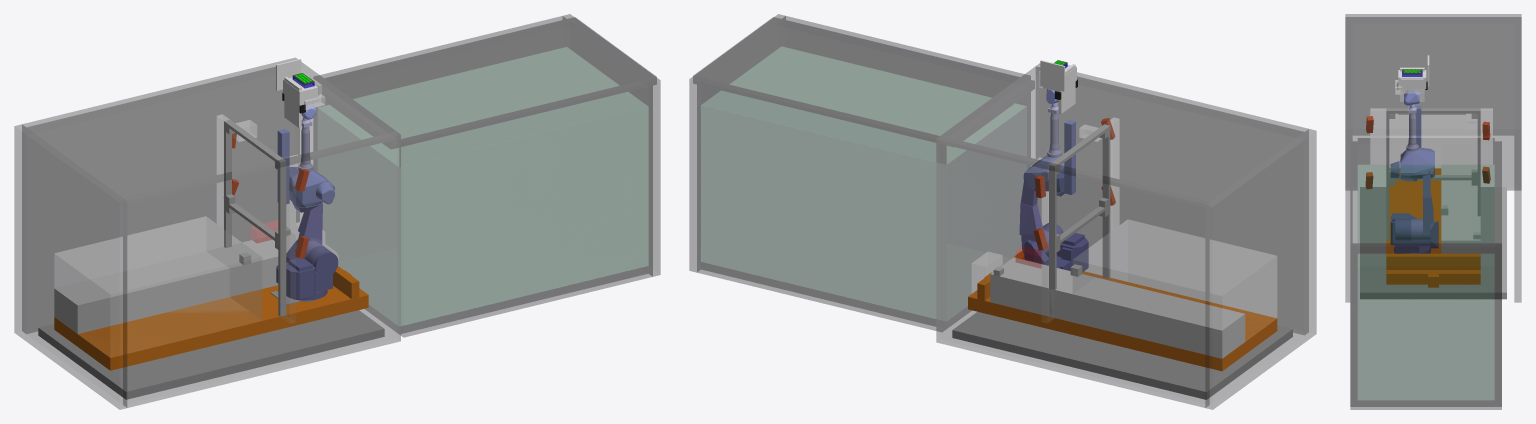
The model's file is newdevanning_calibrated.mujin.dae.
The picture shows the model from 3 angles, left to right: view 1: azimuth 30°, elevation 25°; view 2: azimuth 150°, elevation 25°; view 3: azimuth 270°, elevation 25°; orthographic projection. The views are drawn at different scales.
Visible parts, largest first — view 1: base (×10), slider (×6), ground, L3 (×2), L1, L2, handbase_linear; view 2: base (×10), slider (×5), ground, L3 (×2), L2, L1, caliblink_disabled_; view 3: base (×9), slider (×8), ground, L3 (×2), L1 (×2), L2, handbase (×2), L4, L5, jaw, handbase_linear.
Boxes of the visible parts, left/top/right/bottom form: base (×10): left=14, top=14, right=660, bottom=409; slider (×6): left=54, top=120, right=368, bottom=370; ground: left=38, top=310, right=384, bottom=399; L3 (×2): left=277, top=129, right=334, bottom=212; L1: left=276, top=239, right=338, bottom=300; L2: left=295, top=202, right=323, bottom=259; handbase_linear: left=283, top=77, right=317, bottom=105; base (×10): left=689, top=14, right=1316, bottom=409; slider (×5): left=968, top=124, right=1277, bottom=371; ground: left=952, top=312, right=1292, bottom=399; L3 (×2): left=1023, top=120, right=1075, bottom=196; L2: left=1019, top=181, right=1048, bottom=254; L1: left=1024, top=223, right=1088, bottom=271; caliblink_disabled_: left=1040, top=60, right=1064, bottom=91; base (×9): left=1345, top=14, right=1521, bottom=409; slider (×8): left=1386, top=108, right=1480, bottom=284; ground: left=1360, top=187, right=1506, bottom=299; L3 (×2): left=1390, top=106, right=1434, bottom=181; L1 (×2): left=1390, top=215, right=1438, bottom=253; L2: left=1411, top=169, right=1433, bottom=240; handbase (×2): left=1400, top=71, right=1424, bottom=93; L4: left=1406, top=104, right=1418, bottom=151; L5: left=1404, top=90, right=1419, bottom=105; jaw: left=1400, top=67, right=1424, bottom=102; handbase_linear: left=1398, top=70, right=1426, bottom=88.
Size of what is drawn, in the model's own units: 7.17 by 2.4 by 3.25.
